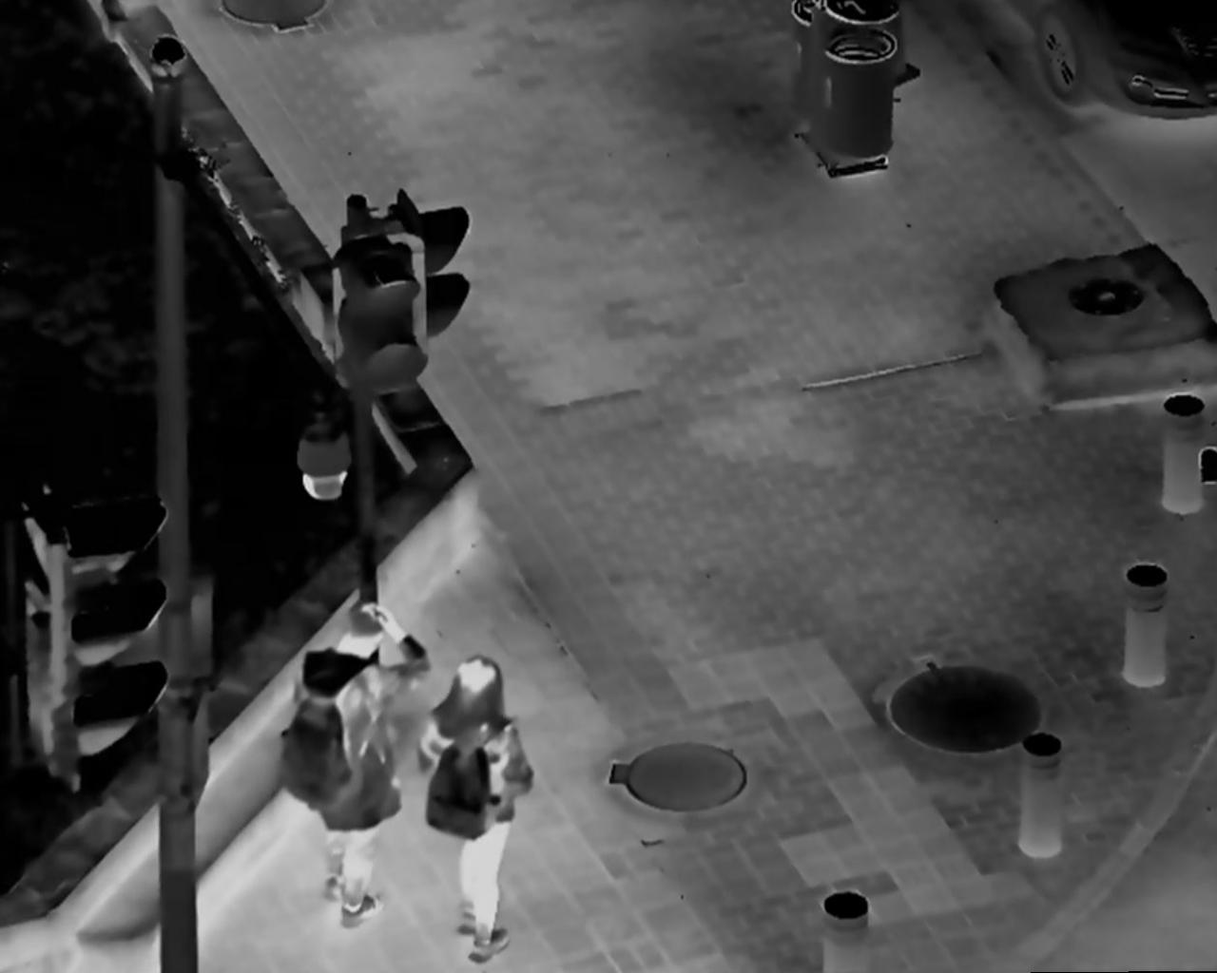person: (285, 606, 425, 928), (418, 657, 537, 965)
